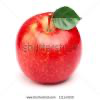Apple leaf: (52, 5, 84, 32)
